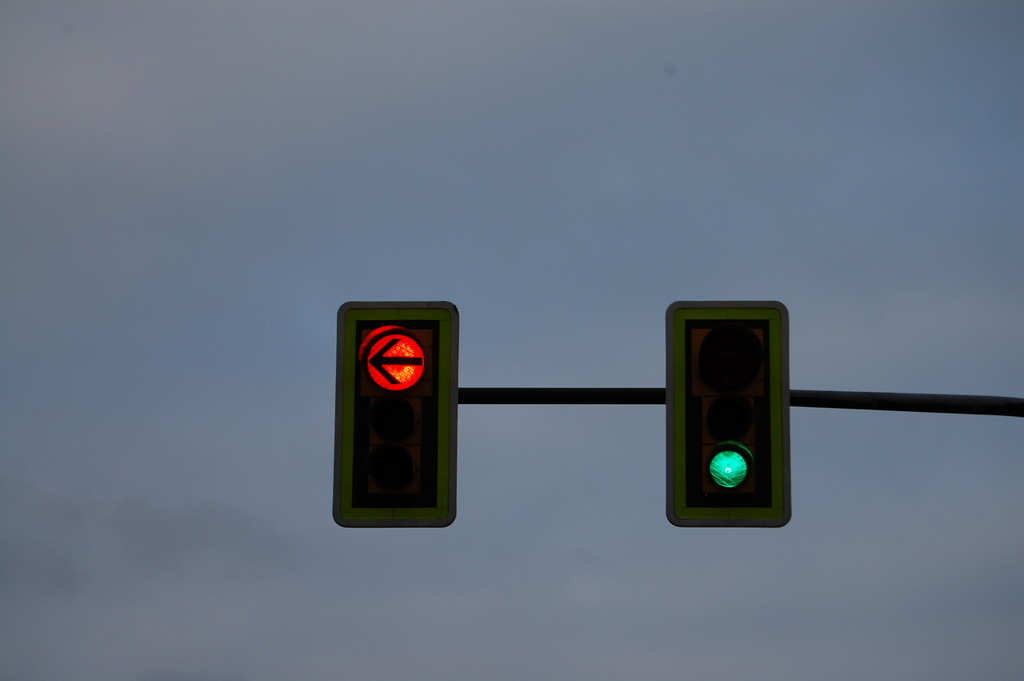green_light: (670, 305, 786, 525)
